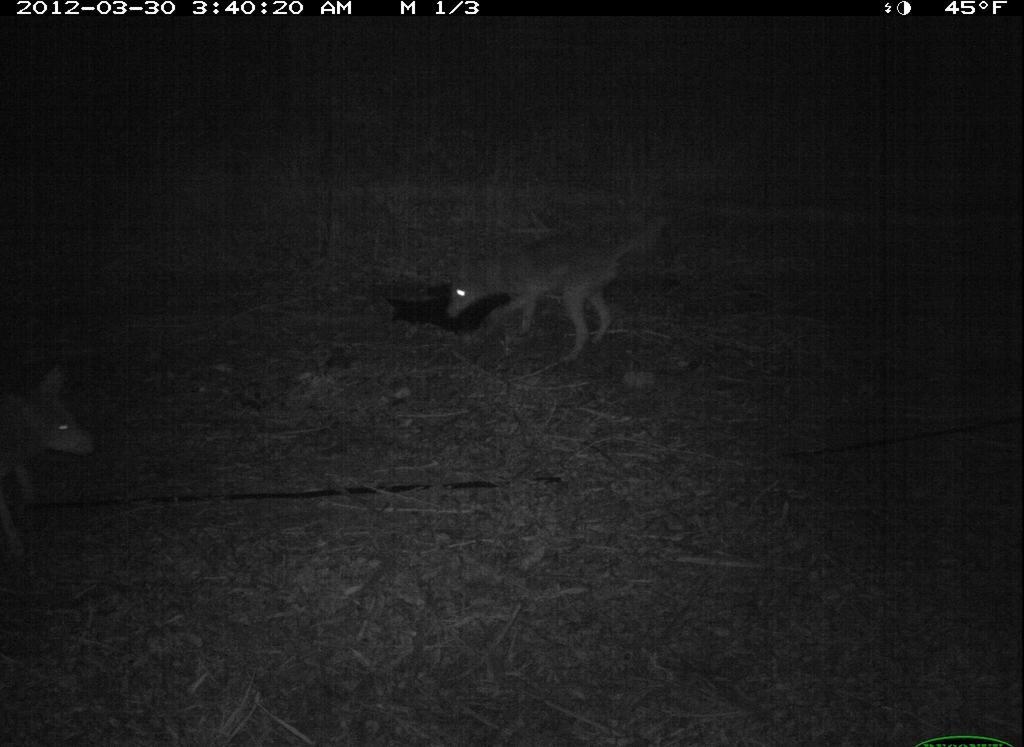coyote: (410, 210, 673, 363), (4, 377, 105, 519)
